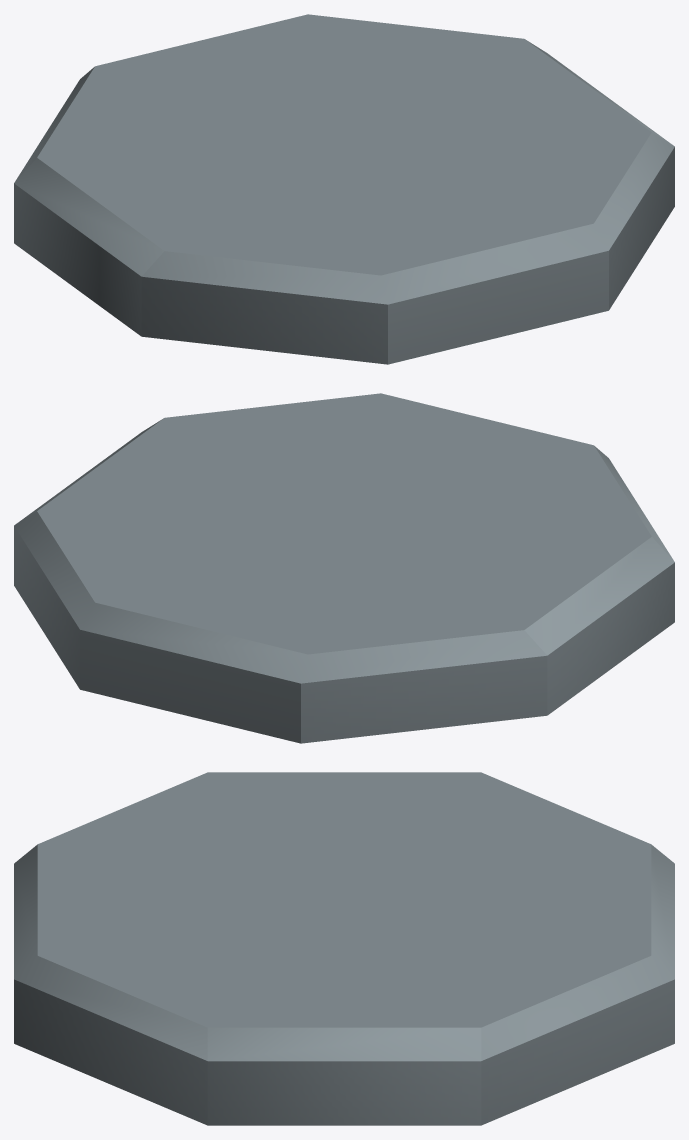
The model's file is roofmodule_base.glb.
The picture shows the model from 3 angles, top to bottom: view 1: azimuth 30°, elevation 25°; view 2: azimuth 150°, elevation 25°; view 3: azimuth 270°, elevation 25°; orthographic projection. The views are drawn at different scales.
Parts seen in each view (by area): view 1: roofmodule_base; view 2: roofmodule_base; view 3: roofmodule_base.
Boxes of the visible parts, x1,y1,x2,y2 form: roofmodule_base: [14, 14, 674, 364]; roofmodule_base: [14, 393, 674, 743]; roofmodule_base: [14, 772, 674, 1125].
Size of the model in its own units: 1.4 by 0.2 by 1.4.
Materials: 1 (1 with a texture image).
